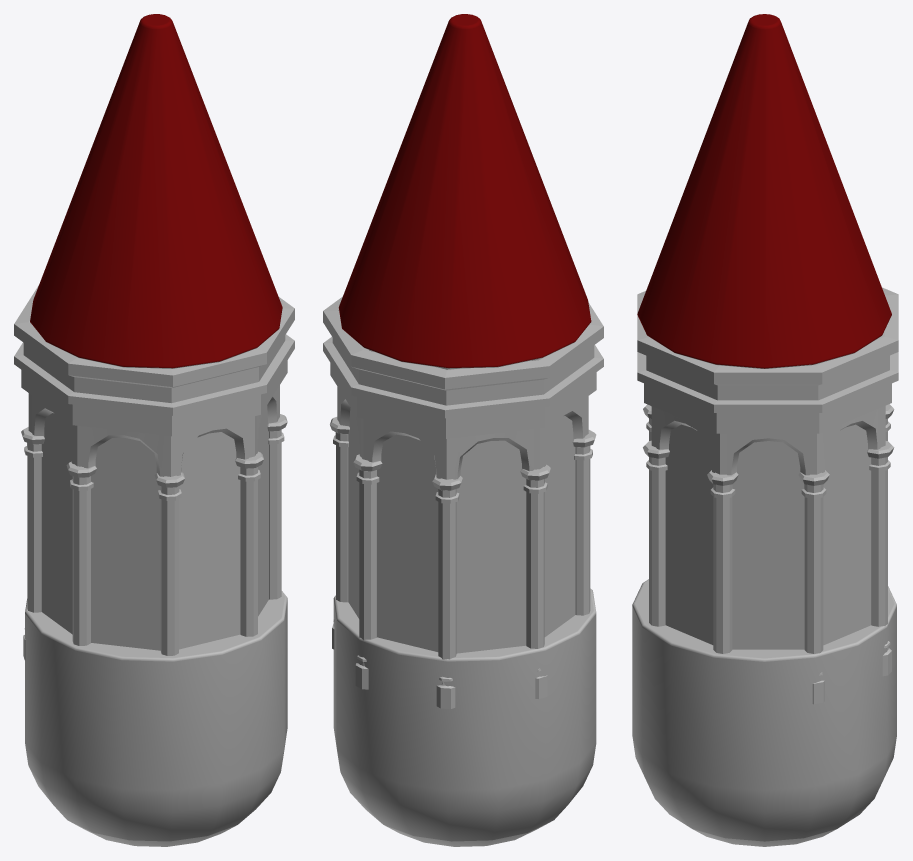
Rendered from turret_006.glb.
3 views of the same model, side by side, from view 1: azimuth 30°, elevation 25°; view 2: azimuth 150°, elevation 25°; view 3: azimuth 270°, elevation 25° (orthographic).
Visible parts, largest first — view 1: turret_006; view 2: turret_006; view 3: turret_006.
Part boxes in pixels (bbox=[...]): turret_006: bbox=[14, 14, 294, 846]; turret_006: bbox=[323, 14, 603, 846]; turret_006: bbox=[632, 14, 898, 846].
Size of the model in its own units: 0.4145 by 1.39 by 0.4171.
